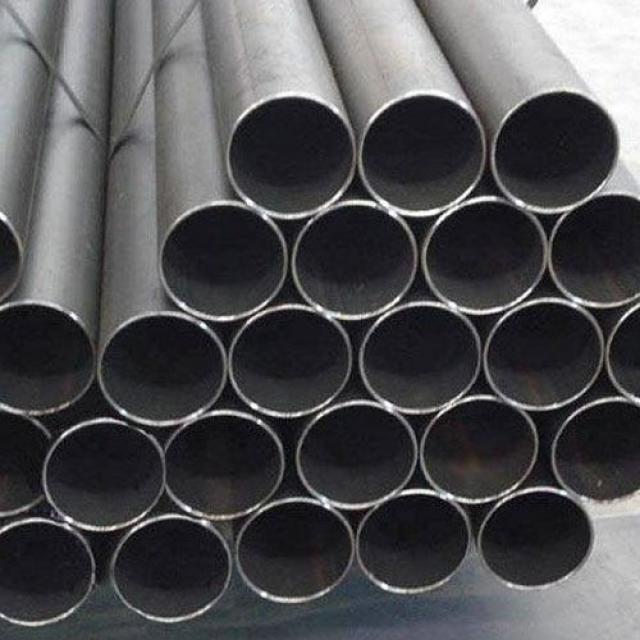pipe: (227, 96, 356, 219), (492, 91, 620, 214), (359, 94, 486, 216), (160, 202, 288, 322), (292, 200, 419, 320), (422, 196, 548, 315), (99, 312, 227, 426), (229, 304, 353, 418), (360, 302, 482, 415), (42, 419, 164, 532), (485, 298, 605, 412), (165, 410, 285, 522), (110, 515, 232, 624), (421, 396, 539, 504), (236, 498, 355, 604), (298, 404, 417, 506), (357, 490, 472, 595), (479, 488, 595, 590), (0, 298, 96, 410), (551, 192, 640, 307), (0, 521, 98, 625), (549, 400, 640, 500)
